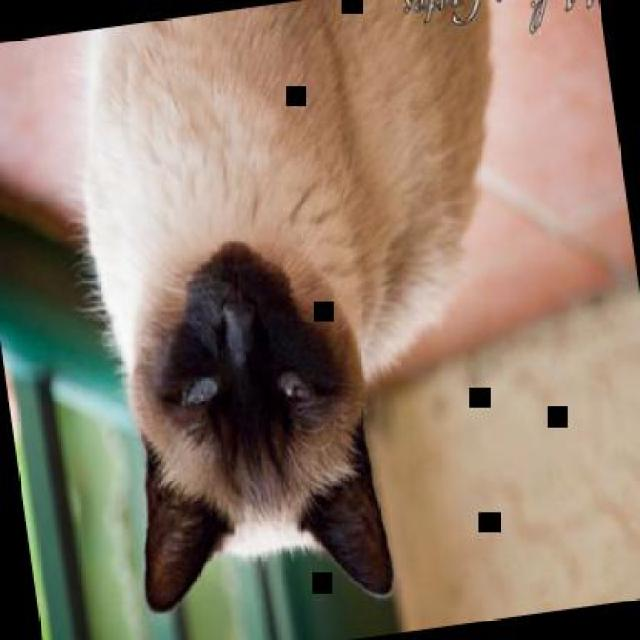cat: (58, 0, 571, 634)
